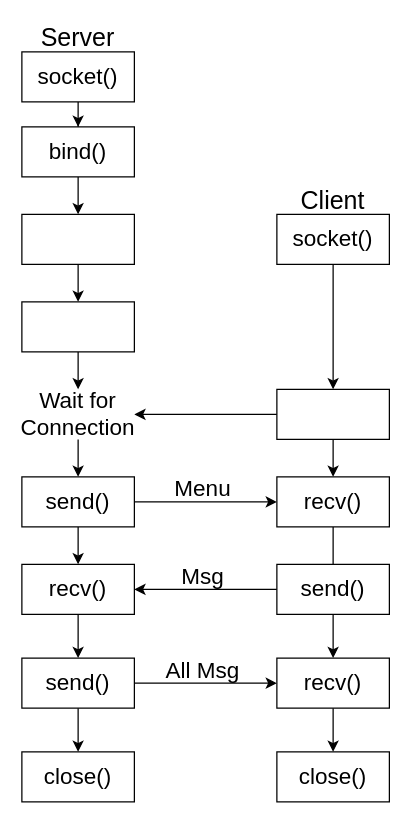
Image size: 411x824. Some labels were removed from this diagram. The centre of each missing label's shape, as x and y in pixels:
"accept()" goes at (77,326).
"connect()" goes at (332,413).
"listen()" goes at (77,238).
